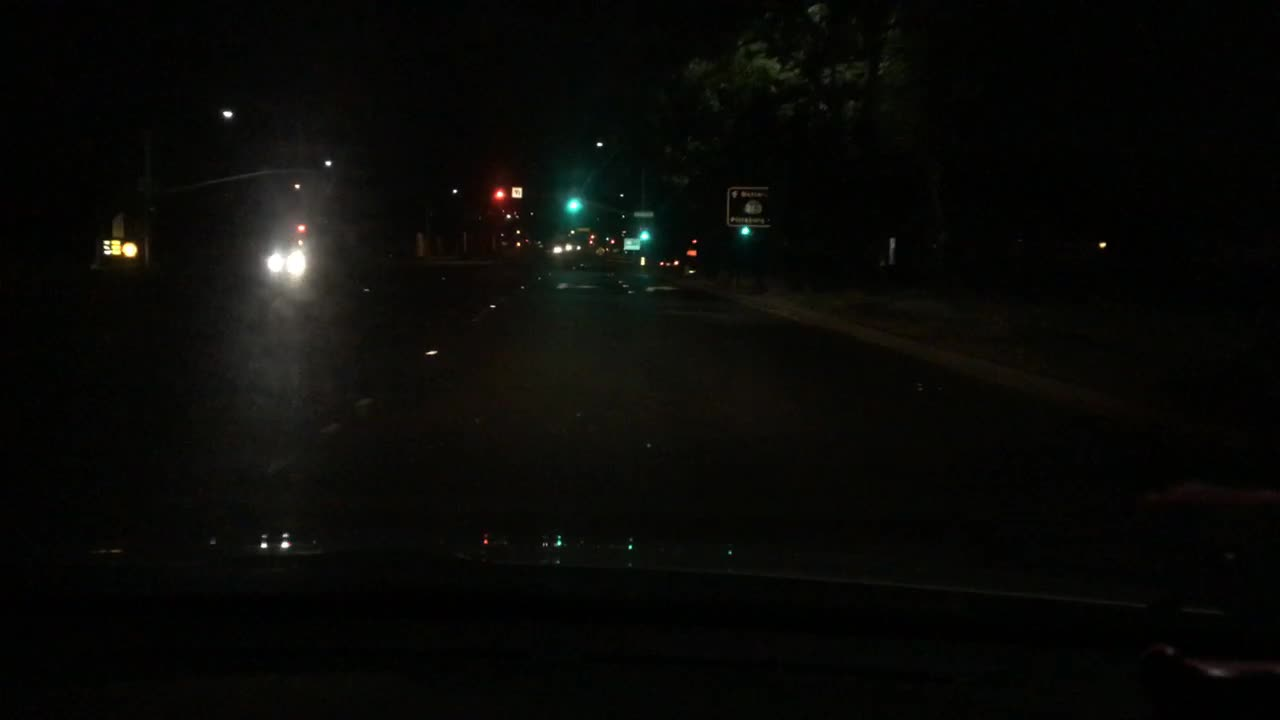car: (263, 249, 310, 274)
traffic light: (565, 196, 582, 215), (492, 187, 504, 206), (296, 219, 305, 243), (638, 226, 650, 240), (739, 226, 753, 237)
traffic sign: (726, 184, 770, 225), (623, 236, 639, 250), (631, 212, 653, 218), (593, 246, 607, 254), (509, 188, 522, 196)
